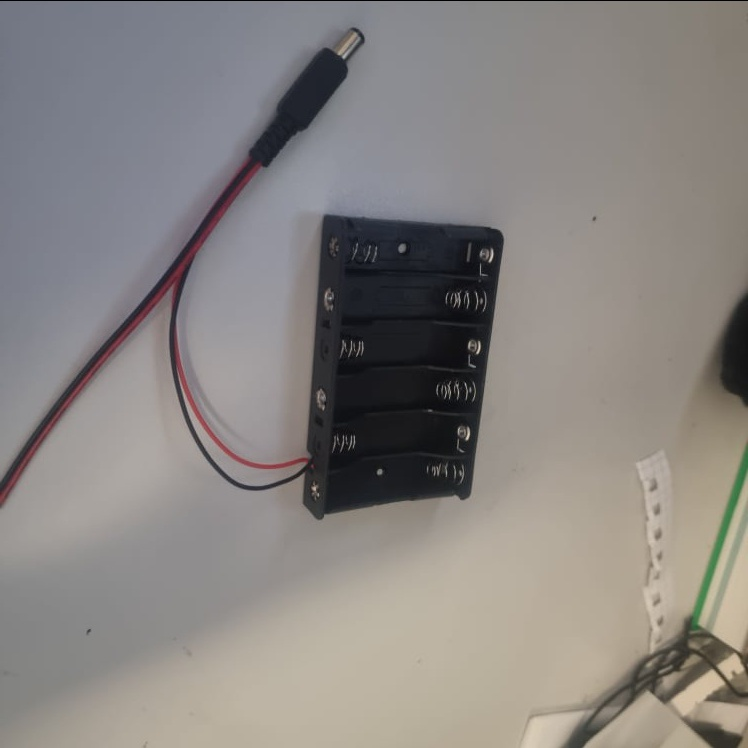BATTERY BOX: (300, 210, 505, 521)
